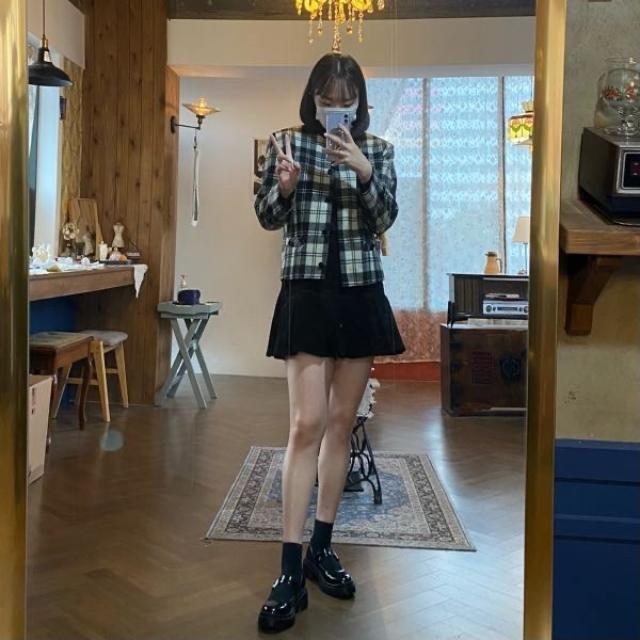jacket: (250, 120, 402, 288)
skirt: (266, 273, 408, 357)
